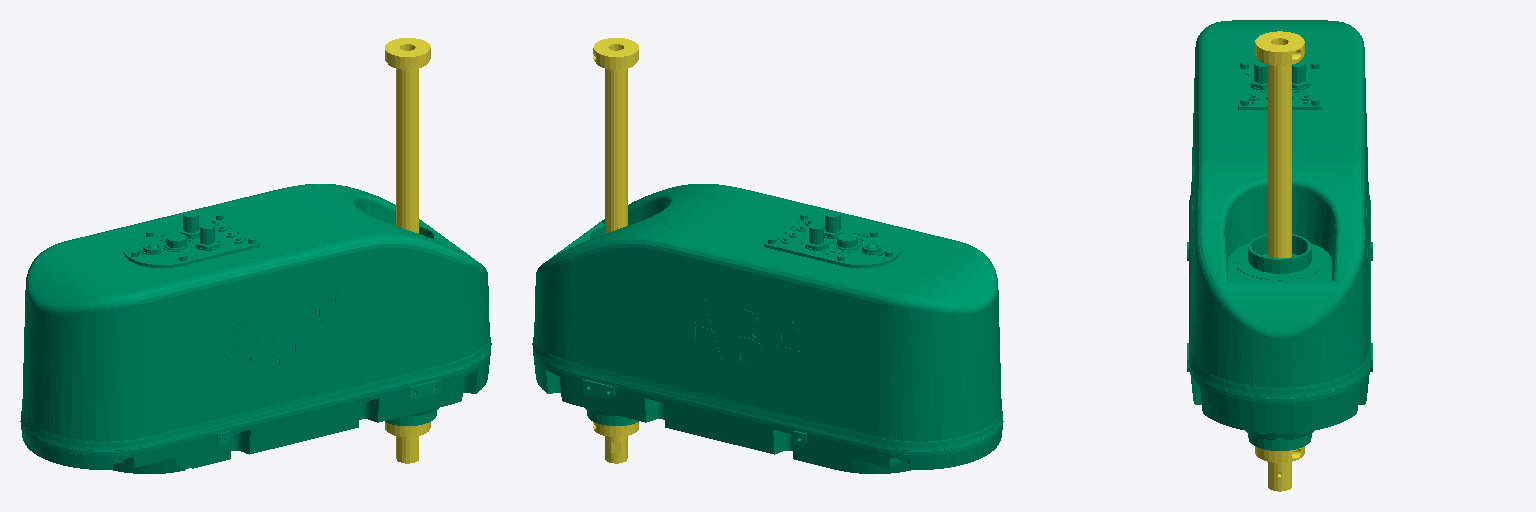
The robot description file, URDF, robot "IRB920_6kg-650-180-STD_OmniCore_rev00_Assembly":
<?xml version="1.0" ?>
<robot name="IRB920_6kg-650-180-STD_OmniCore_rev00_Assembly">

<link name="base_link">
  <inertial>
    <origin xyz="-0.02500708496170239 4.832861134834105e-06 0.0942820642453871" rpy="0 0 0"/>
    <mass value="41.12591553669811"/>
    <inertia ixx="0.182723" iyy="0.263418" izz="0.209732" ixy="5.3e-05" iyz="2e-06" ixz="0.005906"/>
  </inertial>
  <visual>
    <origin xyz="0 0 0" rpy="0 0 0"/>
    <geometry>
      <mesh filename="package://IRB920_6kg-650-180-STD_OmniCore_rev00_Assembly_description/meshes/base_link.stl" scale="0.001 0.001 0.001"/>
    </geometry>
    <material name="silver"/>
  </visual>
  <collision>
    <origin xyz="0 0 0" rpy="0 0 0"/>
    <geometry>
      <mesh filename="package://IRB920_6kg-650-180-STD_OmniCore_rev00_Assembly_description/meshes/base_link.stl" scale="0.001 0.001 0.001"/>
    </geometry>
  </collision>
</link>

<link name="IRB920_6kg-650-180-STD_OmniCore_rev00_LINK1_CAD.STEP_1">
  <inertial>
    <origin xyz="0.17258528277481563 4.324208514675313e-06 0.04683297673687792" rpy="0 0 0"/>
    <mass value="40.4824375073"/>
    <inertia ixx="0.086331" iyy="0.913744" izz="0.966259" ixy="2.3e-05" iyz="1e-05" ixz="-0.029501"/>
  </inertial>
  <visual>
    <origin xyz="0.00025 -2e-06 -0.1914" rpy="0 0 0"/>
    <geometry>
      <mesh filename="package://IRB920_6kg-650-180-STD_OmniCore_rev00_Assembly_description/meshes/IRB920_6kg-650-180-STD_OmniCore_rev00_LINK1_CAD.STEP_1.stl" scale="0.001 0.001 0.001"/>
    </geometry>
    <material name="silver"/>
  </visual>
  <collision>
    <origin xyz="0.00025 -2e-06 -0.1914" rpy="0 0 0"/>
    <geometry>
      <mesh filename="package://IRB920_6kg-650-180-STD_OmniCore_rev00_Assembly_description/meshes/IRB920_6kg-650-180-STD_OmniCore_rev00_LINK1_CAD.STEP_1.stl" scale="0.001 0.001 0.001"/>
    </geometry>
  </collision>
</link>

<link name="IRB920_6kg-650-180-STD_OmniCore_rev00_LINK2_CAD.STEP_1">
  <inertial>
    <origin xyz="0.09786963144856903 2.835673922048506e-06 0.08518137848367535" rpy="0 0 0"/>
    <mass value="75.77408460831636"/>
    <inertia ixx="0.309324" iyy="1.206998" izz="1.132456" ixy="1.3e-05" iyz="1.8e-05" ixz="0.072377"/>
  </inertial>
  <visual>
    <origin xyz="-0.391498 -0.0 -0.2785" rpy="0 0 0"/>
    <geometry>
      <mesh filename="package://IRB920_6kg-650-180-STD_OmniCore_rev00_Assembly_description/meshes/IRB920_6kg-650-180-STD_OmniCore_rev00_LINK2_CAD.STEP_1.stl" scale="0.001 0.001 0.001"/>
    </geometry>
    <material name="silver"/>
  </visual>
  <collision>
    <origin xyz="-0.391498 -0.0 -0.2785" rpy="0 0 0"/>
    <geometry>
      <mesh filename="package://IRB920_6kg-650-180-STD_OmniCore_rev00_Assembly_description/meshes/IRB920_6kg-650-180-STD_OmniCore_rev00_LINK2_CAD.STEP_1.stl" scale="0.001 0.001 0.001"/>
    </geometry>
  </collision>
</link>

<link name="IRB920_6kg-650-180-STD_OmniCore_rev00_LINK3_CAD.STEP_1">
  <inertial>
    <origin xyz="-7.554934788145395e-05 -7.45327058237817e-05 -0.17600468195116148" rpy="0 0 0"/>
    <mass value="0.6594614836495672"/>
    <inertia ixx="0.011651" iyy="0.011651" izz="7.7e-05" ixy="1e-06" iyz="-0.0" ixz="1e-06"/>
  </inertial>
  <visual>
    <origin xyz="-0.65 0.0 -0.5835" rpy="0 0 0"/>
    <geometry>
      <mesh filename="package://IRB920_6kg-650-180-STD_OmniCore_rev00_Assembly_description/meshes/IRB920_6kg-650-180-STD_OmniCore_rev00_LINK3_CAD.STEP_1.stl" scale="0.001 0.001 0.001"/>
    </geometry>
    <material name="silver"/>
  </visual>
  <collision>
    <origin xyz="-0.65 0.0 -0.5835" rpy="0 0 0"/>
    <geometry>
      <mesh filename="package://IRB920_6kg-650-180-STD_OmniCore_rev00_Assembly_description/meshes/IRB920_6kg-650-180-STD_OmniCore_rev00_LINK3_CAD.STEP_1.stl" scale="0.001 0.001 0.001"/>
    </geometry>
  </collision>
</link>

<joint name="Revolute 1" type="continuous">
  <origin xyz="-0.00025 2e-06 0.1914" rpy="0 0 0"/>
  <parent link="base_link"/>
  <child link="IRB920_6kg-650-180-STD_OmniCore_rev00_LINK1_CAD.STEP_1"/>
  <axis xyz="0.0 0.0 1.0"/>
</joint>

<joint name="Revolute 2" type="continuous">
  <origin xyz="0.391748 -2e-06 0.0871" rpy="0 0 0"/>
  <parent link="IRB920_6kg-650-180-STD_OmniCore_rev00_LINK1_CAD.STEP_1"/>
  <child link="IRB920_6kg-650-180-STD_OmniCore_rev00_LINK2_CAD.STEP_1"/>
  <axis xyz="0.0 0.0 1.0"/>
</joint>

<joint name="Slider 3" type="prismatic">
  <origin xyz="0.258502 -0.0 0.305" rpy="0 0 0"/>
  <parent link="IRB920_6kg-650-180-STD_OmniCore_rev00_LINK2_CAD.STEP_1"/>
  <child link="IRB920_6kg-650-180-STD_OmniCore_rev00_LINK3_CAD.STEP_1"/>
  <axis xyz="0.0 0.0 1.0"/>
  <limit upper="0.0" lower="-0.1" effort="100" velocity="100"/>
</joint>

</robot>

--- Render facts (derived) ---
3 views of the same robot in one strip: view 1: azimuth 30°, elevation 25°; view 2: azimuth 150°, elevation 25°; view 3: azimuth 270°, elevation 25° (orthographic).
Robot: IRB920_6kg-650-180-STD_OmniCore_rev00_Assembly — 4 links, 3 joints (2 continuous, 1 prismatic); root link base_link; default pose: every joint at zero.
Visible links, largest first — view 1: IRB920_6kg-650-180-STD_OmniCore_rev00_LINK2_CAD.STEP_1, IRB920_6kg-650-180-STD_OmniCore_rev00_LINK3_CAD.STEP_1; view 2: IRB920_6kg-650-180-STD_OmniCore_rev00_LINK2_CAD.STEP_1, IRB920_6kg-650-180-STD_OmniCore_rev00_LINK3_CAD.STEP_1; view 3: IRB920_6kg-650-180-STD_OmniCore_rev00_LINK2_CAD.STEP_1, IRB920_6kg-650-180-STD_OmniCore_rev00_LINK3_CAD.STEP_1.
Link boxes in pixels (x1,y1,x2,y2): IRB920_6kg-650-180-STD_OmniCore_rev00_LINK2_CAD.STEP_1: (20, 184, 491, 473); IRB920_6kg-650-180-STD_OmniCore_rev00_LINK3_CAD.STEP_1: (385, 38, 430, 463); IRB920_6kg-650-180-STD_OmniCore_rev00_LINK2_CAD.STEP_1: (532, 184, 1003, 473); IRB920_6kg-650-180-STD_OmniCore_rev00_LINK3_CAD.STEP_1: (593, 38, 638, 463); IRB920_6kg-650-180-STD_OmniCore_rev00_LINK2_CAD.STEP_1: (1187, 20, 1372, 450); IRB920_6kg-650-180-STD_OmniCore_rev00_LINK3_CAD.STEP_1: (1255, 31, 1304, 491).
Bounding box of the posed robot: 0.451 × 0.149 × 0.395 m (x, y, z).
2 mesh visuals loaded from 4 distinct referenced files (2 binary STL); not drawn: 2 (reference not matched to a file when rendering).